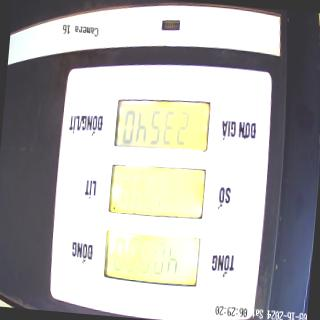screen: (100, 92, 215, 291)
